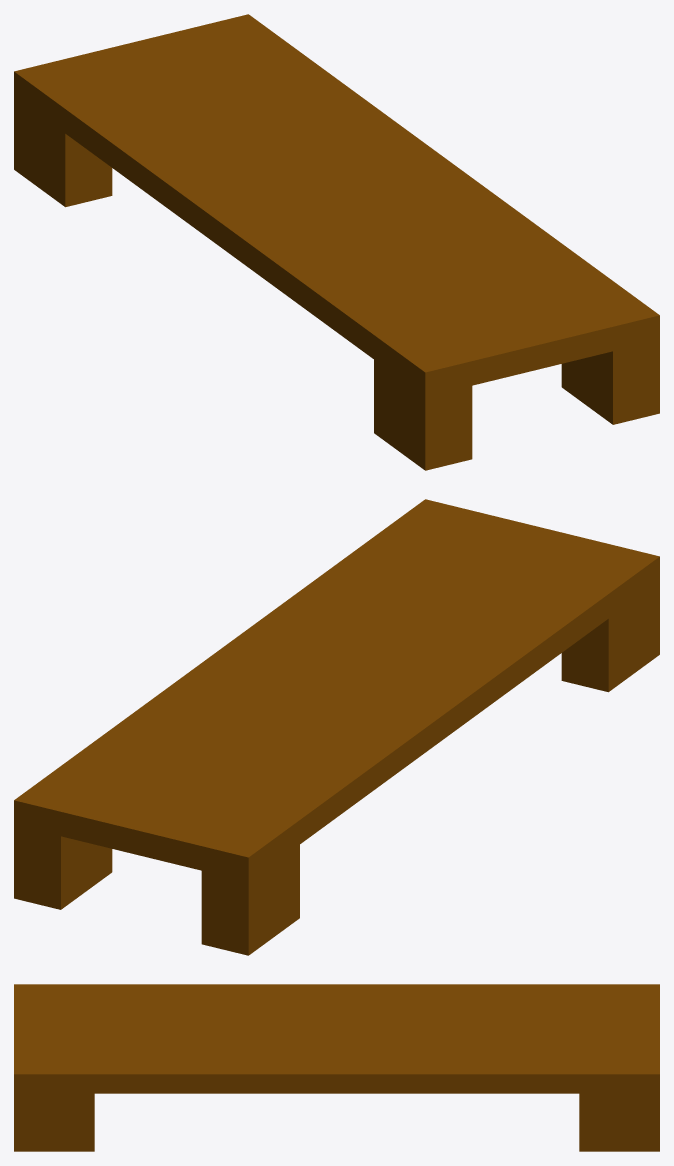
File: Table.fbx
The picture shows the model from 3 angles, top to bottom: view 1: azimuth 30°, elevation 25°; view 2: azimuth 150°, elevation 25°; view 3: azimuth 270°, elevation 25°; orthographic projection. The views are drawn at different scales.
Visible parts, largest first — view 1: Table; view 2: Table; view 3: Table.
Part boxes in pixels (bbox=[...]): Table: bbox=[14, 14, 659, 470]; Table: bbox=[14, 499, 659, 955]; Table: bbox=[14, 984, 659, 1151].
Size of the model in its own units: 8.9 by 3.56 by 27.04.
